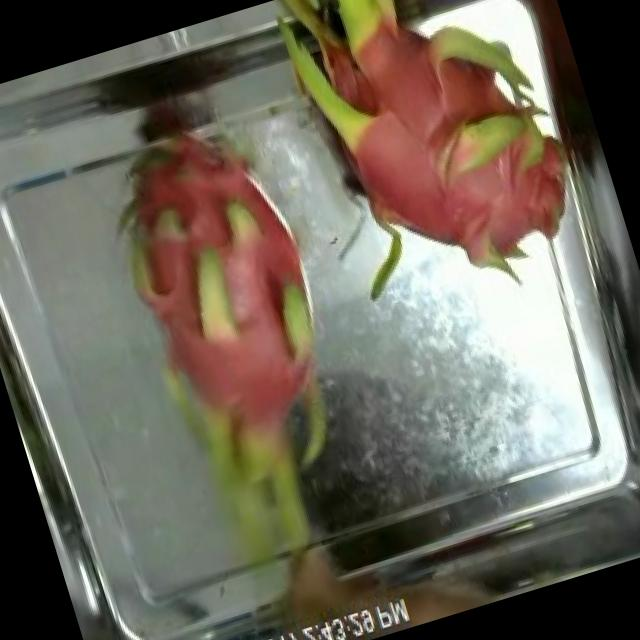Fruit: (368, 76, 594, 304)
